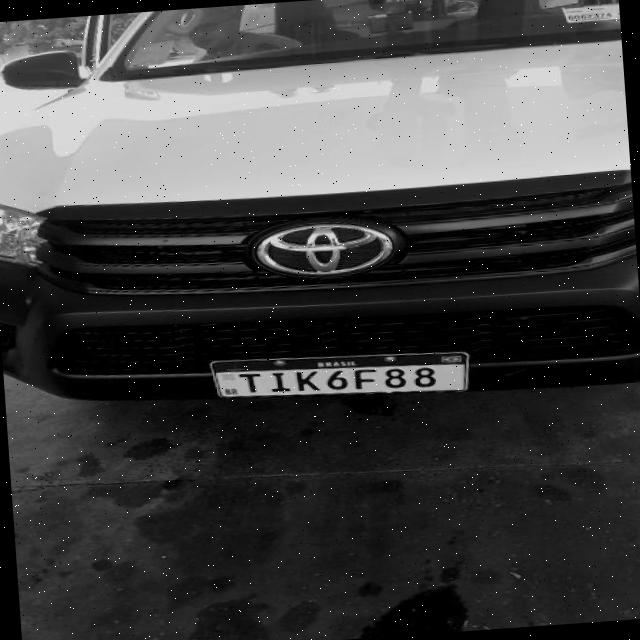placa_mercosul: (213, 351, 469, 397)
